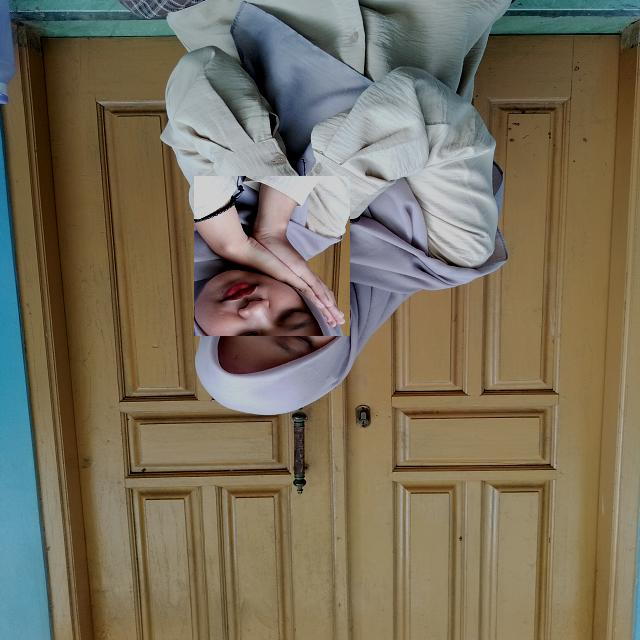tidur: (194, 176, 350, 336)
